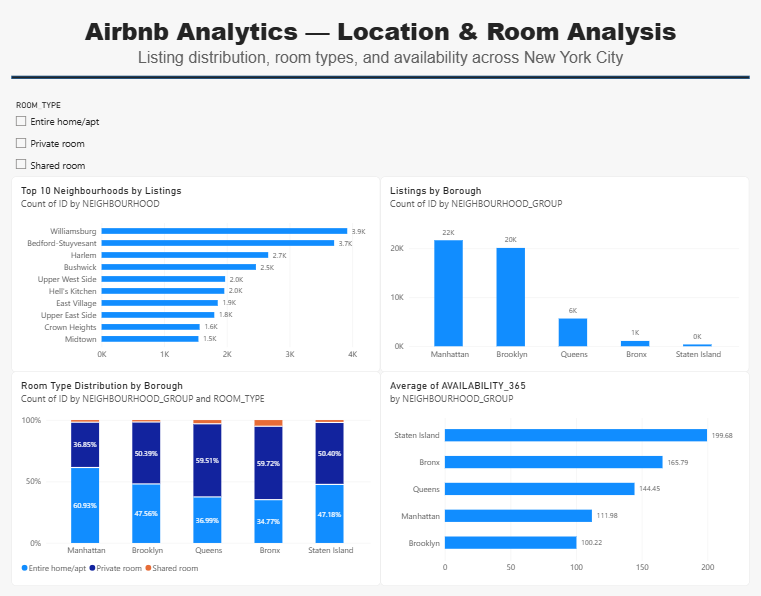

This screenshot's page, from the dashboard's own definition file:
{"tool":"powerbi","page":{"name":"Location & Room Analysis.","canvas":[1920,1080],"ordinal":2},"visuals":[{"type":"clusteredBarChart","title":"Top 10 Neighbourhoods by Listings","fields":{"Category":["DIM_LOCATION.NEIGHBOURHOOD"],"Y":["CountNonNull(FACT_LISTINGS.ID)"]},"box":[359.7,317.7,645,342.5],"z":0},{"type":"clusteredColumnChart","title":"Listings by Borough","fields":{"Category":["DIM_LOCATION.NEIGHBOURHOOD_GROUP"],"Y":["CountNonNull(FACT_LISTINGS.ID)"]},"box":[1005.6,317.7,645,342.5],"z":1000},{"type":"hundredPercentStackedColumnChart","title":"Room Type Distribution by Borough","fields":{"Category":["DIM_LOCATION.NEIGHBOURHOOD_GROUP"],"Series":["DIM_ROOM_TYPE.ROOM_TYPE"],"Y":["CountNonNull(FACT_LISTINGS.ID)"]},"box":[359.7,659,645.9,375.5],"z":2000},{"type":"clusteredBarChart","fields":{"Category":["DIM_LOCATION.NEIGHBOURHOOD_GROUP"],"Y":["Avg(FACT_LISTINGS.AVAILABILITY_365)"]},"box":[1005.6,659,645.9,375.5],"z":3000},{"type":"shape","title":"Airbnb Analytics — Location & Room Analysis","box":[359.7,34.1,1291.8,112.9],"z":4000},{"type":"slicer","fields":{"Values":["DIM_ROOM_TYPE.ROOM_TYPE"]},"box":[359.7,183.8,254.7,133.9],"z":5000}]}

Visuals, with their boxes on the page's 1920x1080 design canvas (x1, y1, x2, y2). These are canvas units, not pixel positions in the 761x596 screenshot, which may show the page scaled, cropped or inside an application window:
"Top 10 Neighbourhoods by Listings" clusteredBarChart: <box>360,318,1005,660</box>
"Listings by Borough" clusteredColumnChart: <box>1006,318,1651,660</box>
"Room Type Distribution by Borough" hundredPercentStackedColumnChart: <box>360,659,1006,1034</box>
clusteredBarChart - DIM_LOCATION.NEIGHBOURHOOD_GROUP x Avg(FACT_LISTINGS.AVAILABILITY_365): <box>1006,659,1652,1034</box>
"Airbnb Analytics — Location & Room Analysis" shape: <box>360,34,1652,147</box>
slicer - DIM_ROOM_TYPE.ROOM_TYPE: <box>360,184,614,318</box>
